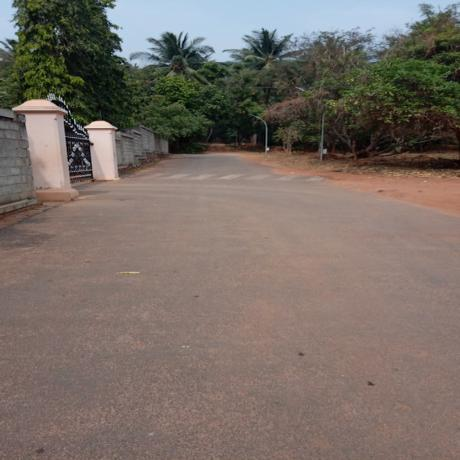Speed Bump: (125, 168, 331, 183)
